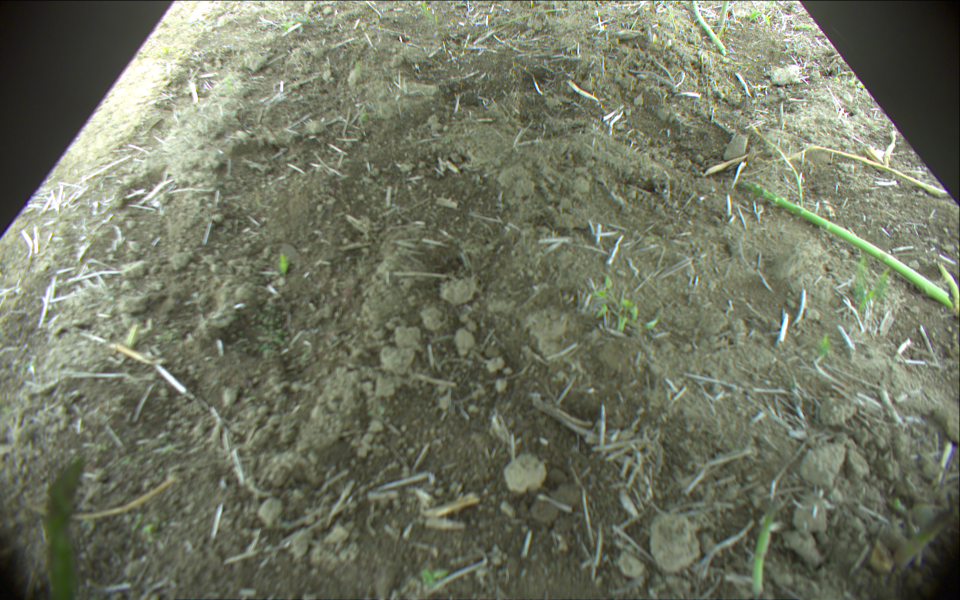aspa: (738, 179, 960, 315), (41, 453, 87, 600), (883, 504, 960, 585), (749, 493, 779, 596), (690, 1, 725, 53), (939, 264, 960, 311), (718, 1, 728, 29)
